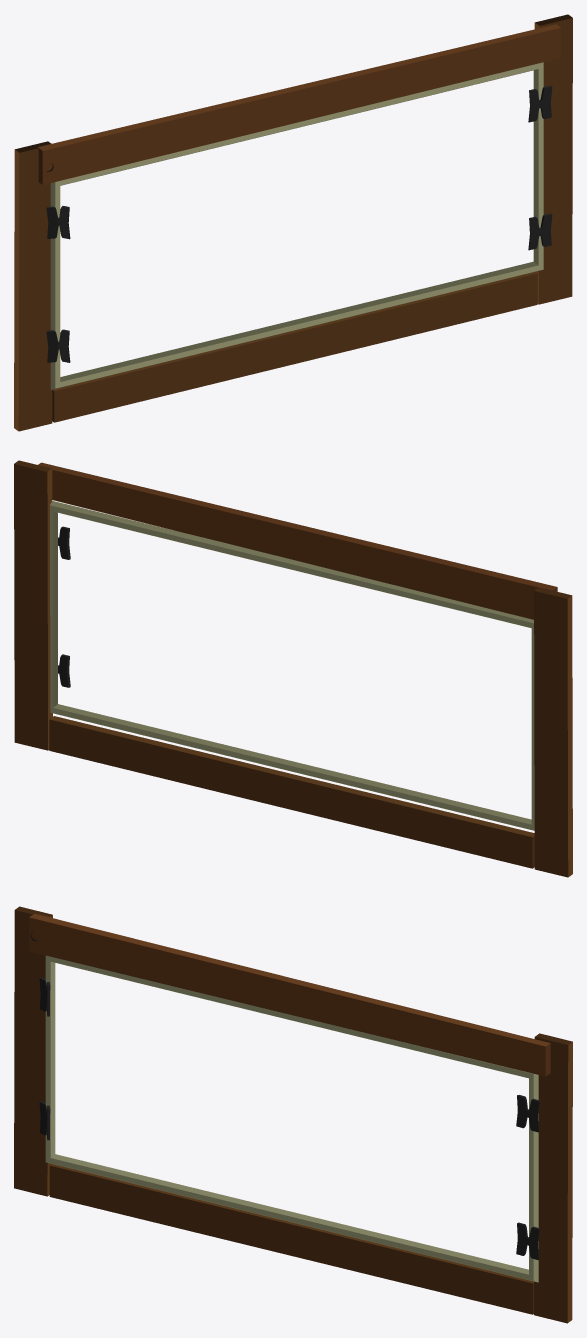
File: stage4 window frame.fbx
The picture shows the model from 3 angles, top to bottom: view 1: azimuth 30°, elevation 25°; view 2: azimuth 150°, elevation 25°; view 3: azimuth 330°, elevation 25°; orthographic projection.
Visible parts, largest first — view 1: Box076; view 2: Box076; view 3: Box076.
Part boxes in pixels (x1,y1,x2,y2): Box076: (14, 14, 572, 431); Box076: (14, 460, 572, 877); Box076: (14, 906, 572, 1323).
Size of the model in its own units: 21.62 by 10.41 by 0.9228.
